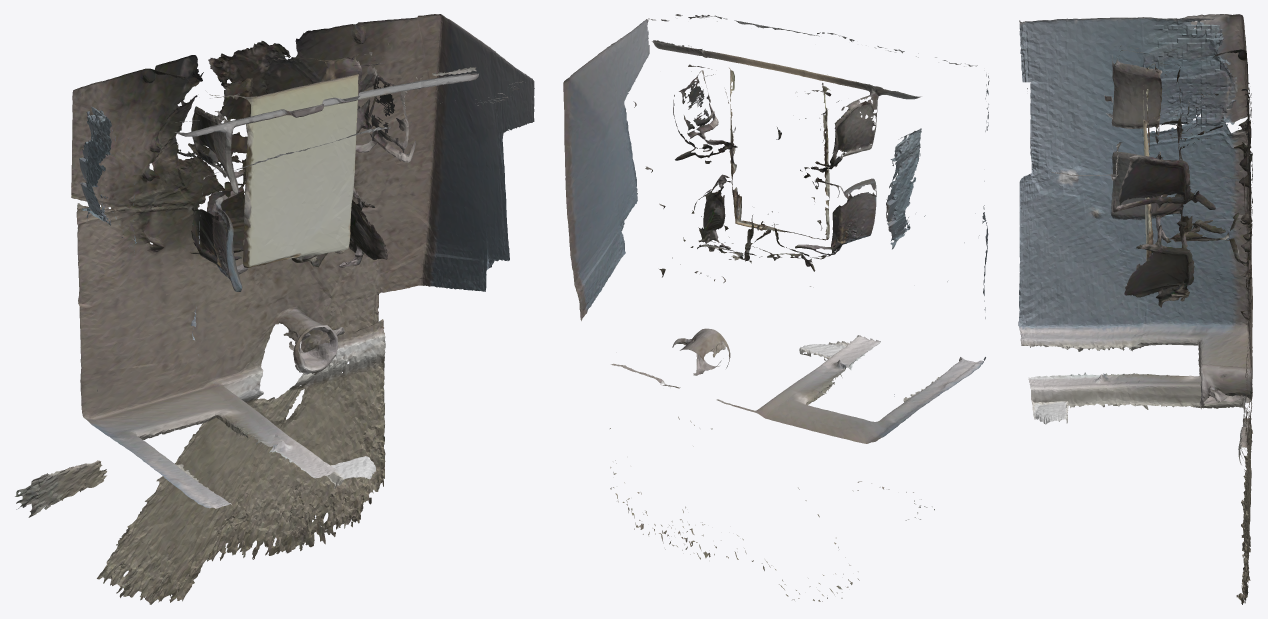
3 views of the same model, side by side, from view 1: azimuth 30°, elevation 25°; view 2: azimuth 150°, elevation 25°; view 3: azimuth 270°, elevation 25° (orthographic). The views are drawn at different scales.
Visible parts, largest first — view 1: world; view 2: world; view 3: world.
Part boxes in pixels (x1=…): world: x1=15, y1=14, x2=534, y2=604; world: x1=563, y1=14, x2=989, y2=601; world: x1=1018, y1=14, x2=1252, y2=604.
Bounding box in the file's own units: 3.03 × 3.7 × 1.58.
